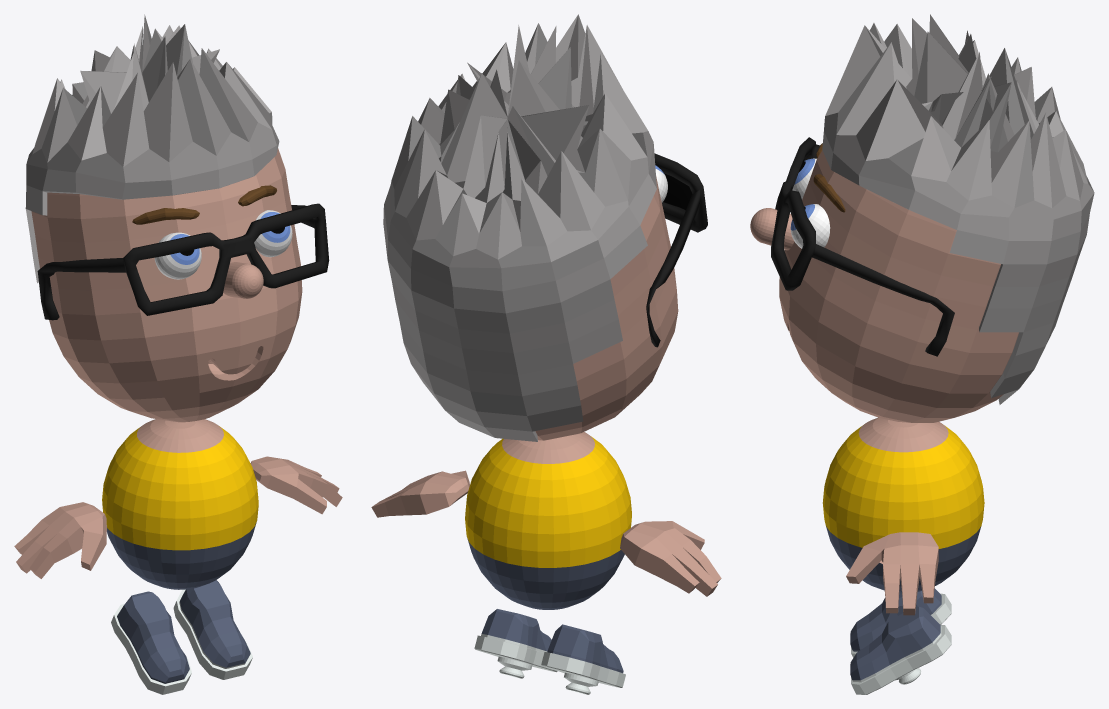
The model's file is char.glb.
3 renders of one model, left to right at view 1: azimuth 30°, elevation 25°; view 2: azimuth 150°, elevation 25°; view 3: azimuth 270°, elevation 25°, orthographic. The views are drawn at different scales.
Parts seen in each view (by area): view 1: head, hair solid, body, GLASSES, shoe R, shoe L, hand R, hand L, Eyeball - R, nose, Eyeball - L, Eyebrow R; view 2: hair solid, body, head, hand R, shoe R, GLASSES, shoe L, hand L, lenses; view 3: hair solid, head, body, GLASSES, shoe L, hand L, shoe R, nose, Eyeball - L.
Part boxes in pixels (left/top/right/bottom): head: left=31, top=148, right=302, bottom=422; hair solid: left=25, top=14, right=279, bottom=283; body: left=102, top=419, right=258, bottom=589; GLASSES: left=37, top=203, right=329, bottom=320; shoe R: left=111, top=591, right=191, bottom=694; shoe L: left=173, top=580, right=252, bottom=679; hand R: left=14, top=502, right=106, bottom=578; hand L: left=250, top=456, right=342, bottom=514; Eyeball - R: left=154, top=232, right=201, bottom=279; nose: left=223, top=262, right=263, bottom=298; Eyeball - L: left=254, top=210, right=292, bottom=257; Eyebrow R: left=132, top=208, right=199, bottom=224; hair solid: left=383, top=14, right=656, bottom=441; body: left=465, top=432, right=631, bottom=609; head: left=535, top=176, right=678, bottom=440; hand R: left=620, top=521, right=721, bottom=596; shoe R: left=541, top=624, right=625, bottom=687; GLASSES: left=646, top=153, right=707, bottom=347; shoe L: left=474, top=609, right=557, bottom=672; hand L: left=371, top=470, right=469, bottom=517; lenses: left=663, top=173, right=692, bottom=210; hair solid: left=822, top=14, right=1094, bottom=404; head: left=779, top=150, right=1018, bottom=422; body: left=822, top=417, right=984, bottom=593; GLASSES: left=771, top=137, right=954, bottom=356; shoe L: left=850, top=606, right=951, bottom=694; hand L: left=846, top=532, right=938, bottom=615; shoe R: left=850, top=588, right=951, bottom=657; nose: left=750, top=208, right=794, bottom=250; Eyeball - L: left=790, top=204, right=830, bottom=248.
Bounding box in the file's own units: 0.4903 × 0.9315 × 0.4462.
